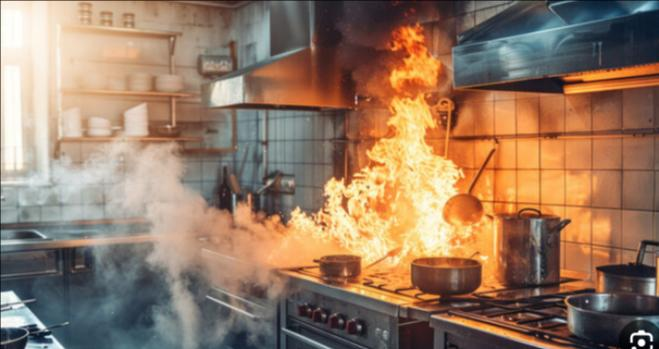fire: (286, 12, 504, 291)
smoke: (80, 124, 260, 315)
